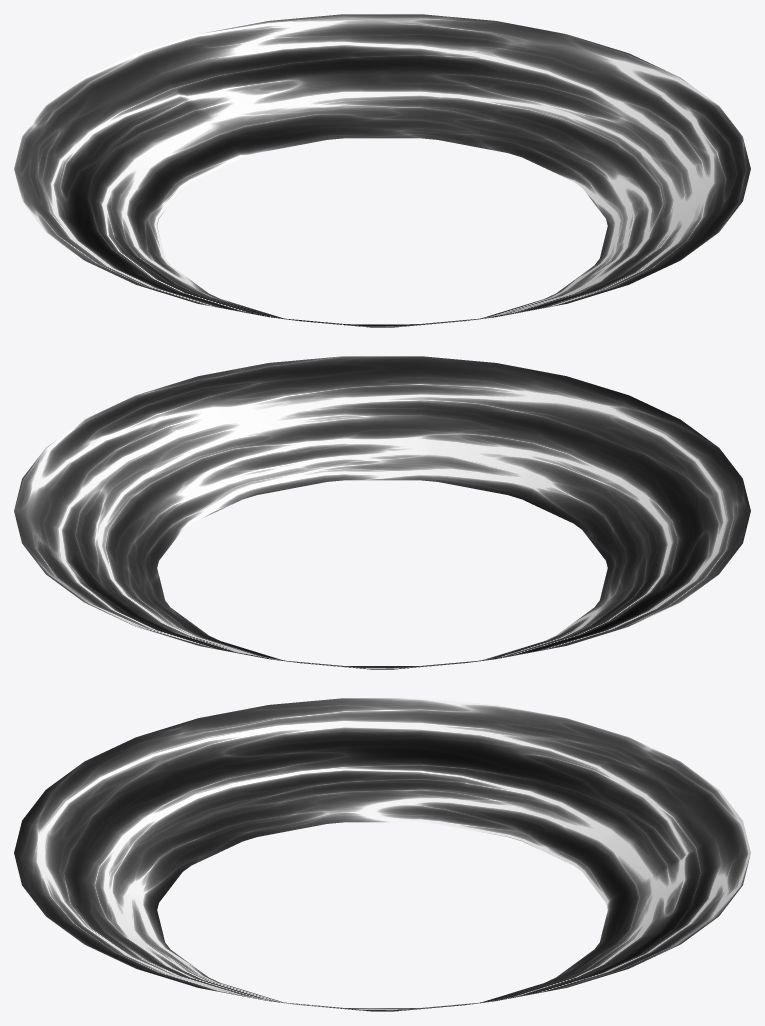
3 views of the same model, one above another, from view 1: azimuth 30°, elevation 25°; view 2: azimuth 150°, elevation 25°; view 3: azimuth 270°, elevation 25° (orthographic).
Parts seen in each view (by area): view 1: Cone_1; view 2: Cone_1; view 3: Cone_1.
Boxes of the visible parts, left/top/right/bottom form: Cone_1: left=14, top=14, right=750, bottom=327; Cone_1: left=14, top=356, right=750, bottom=669; Cone_1: left=14, top=698, right=750, bottom=1011.
Size of the model in its own units: 122 by 11.62 by 122.
Materials: 1 (1 with a texture image).
